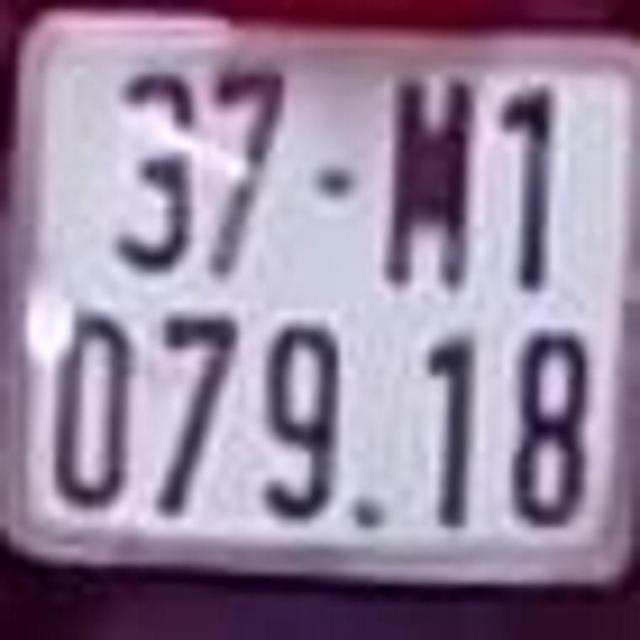0: (52, 304, 130, 506)
1: (418, 326, 476, 526), (500, 79, 555, 287)
3: (119, 67, 194, 271)
7: (206, 66, 286, 280), (158, 308, 238, 519)
8: (513, 319, 586, 526)
9: (261, 314, 339, 517)
M: (390, 75, 472, 295)
